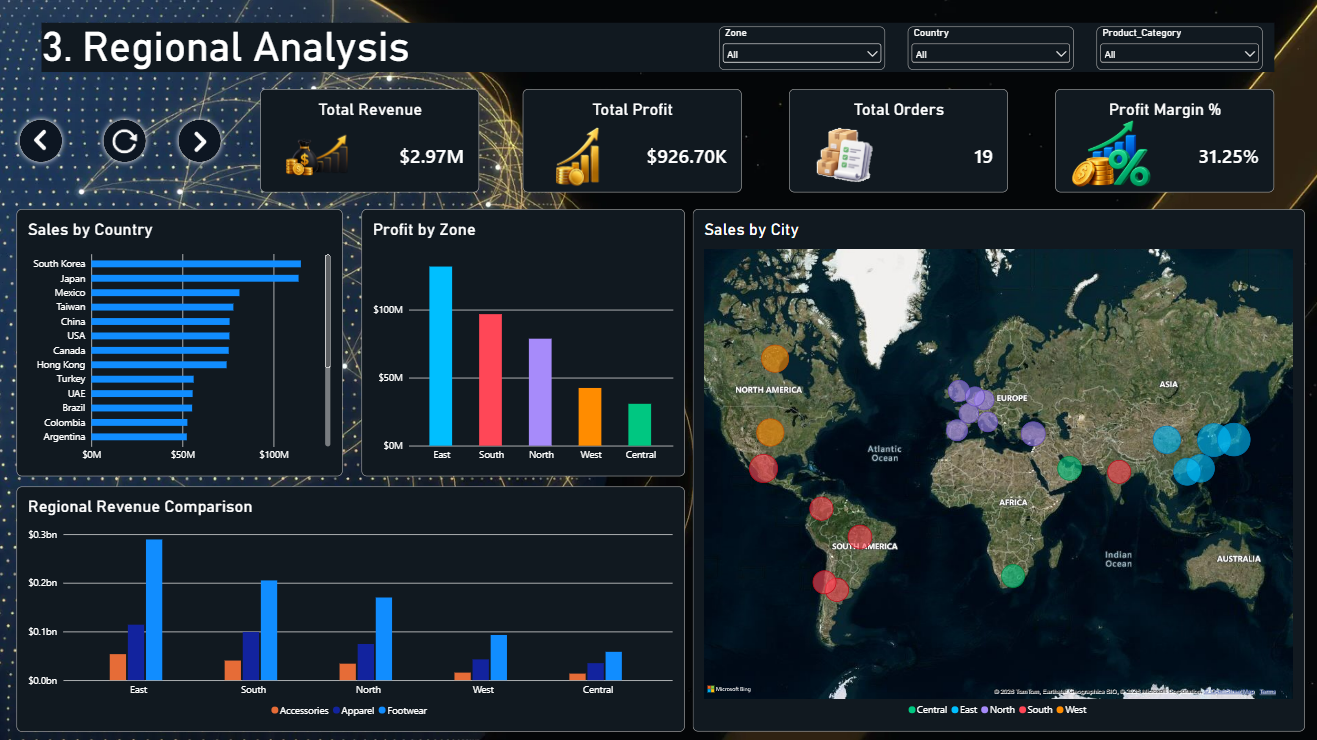

This screenshot's page, from the dashboard's own definition file:
{"tool":"powerbi","page":{"name":"Regional Analysis","canvas":[1920,1080],"ordinal":2},"visuals":[{"type":"shape","box":[61.5,34.4,1793.3,71.7],"z":0},{"type":"textbox","title":"3. Regional Analysis","box":[61.8,34.5,550.9,70.9],"z":1000},{"type":"kpi","title":"Total Revenue","fields":{"Indicator":["Sales and revenue measures.Total Sales Revenue"],"TrendLine":["Calendar.Date"]},"box":[380,130.3,318.5,150.2],"z":2000},{"type":"image","box":[380,170.1,160,110.9],"z":3000},{"type":"kpi","title":"Total Profit","fields":{"Indicator":["Sales and revenue measures.Total Profit"],"TrendLine":["Calendar.Date"]},"box":[761.9,130.3,318.5,150.2],"z":4000},{"type":"kpi","title":"Total Orders","fields":{"Indicator":["Sales and revenue measures.Total Orders"],"TrendLine":["Calendar.Date"]},"box":[1149.1,130.3,318.5,150.2],"z":5000},{"type":"kpi","title":"Profit Margin %","fields":{"Indicator":["Profitability measures.Profit Margin %"],"TrendLine":["Calendar.Date"]},"box":[1536.4,130.3,318.5,150.2],"z":6000},{"type":"clusteredBarChart","title":"Sales by Country","fields":{"Category":["Project.Country"],"Y":["Sales and revenue measures.Total Sales Revenue"]},"box":[25.3,305.8,474.1,389.1],"z":7000},{"type":"clusteredColumnChart","title":"Profit by Zone","fields":{"Category":["Project.Zone"],"Y":["Sales and revenue measures.Total Profit"]},"box":[526.6,305.8,470.5,389.1],"z":8000},{"type":"clusteredColumnChart","title":"Regional Revenue Comparison","fields":{"Category":["Project.Zone"],"Series":["Project.Product_Category"],"Y":["Sales and revenue measures.Total Sales Revenue"]},"box":[25.3,709.4,971.8,356.5],"z":9000},{"type":"map","title":"Sales by City","fields":{"Category":["Project.Country"],"Series":["Project.Zone"],"Size":["Sales and revenue measures.Total Sales Revenue"]},"box":[1009.8,305.8,890.4,760.1],"z":10000},{"type":"slicer","fields":{"Values":["Project.Zone"]},"box":[1047.8,39.8,241.7,63.3],"z":11000},{"type":"shape","box":[253.3,166.5,78.2,78.2],"z":11000,"group":"g3"},{"type":"slicer","fields":{"Values":["Project.Country"]},"box":[1321.1,39.8,241.7,63.3],"z":12000},{"type":"shape","box":[143,166.5,78.2,78.2],"z":12000,"group":"g2"},{"type":"slicer","fields":{"Values":["Project.Product_Category"]},"box":[1596.1,39.8,241.7,63.3],"z":13000},{"type":"shape","box":[21.7,166.5,78.2,78.2],"z":13000,"group":"g1"},{"type":"group","id":"g1","title":"Group 1","box":[14.5,159.3,92.7,92.7],"z":14000},{"type":"image","box":[155.7,177.4,52.7,58.2],"z":14000,"group":"g2"},{"type":"image","box":[246.1,159.3,92.7,92.7],"z":15000,"group":"g3"},{"type":"group","id":"g2","title":"Group 2","box":[143,166.5,78.2,78.2],"z":15000},{"type":"image","box":[14.5,159.3,92.7,92.7],"z":16000,"group":"g1"},{"type":"group","id":"g3","title":"Group 3","box":[246.1,159.3,92.7,92.7],"z":16000},{"type":"image","box":[1150,170,159.3,110.4],"z":17000},{"type":"image","box":[762,170,159.3,110.4],"z":18000},{"type":"image","box":[1536,172,159.3,110.4],"z":19000}]}

Visuals, with their boxes in screenshot pixels (x1, y1, x2, y2), scaled from the page's 1920x1080 canvas onto the 1317x740 screenshot:
shape: left=42, top=24, right=1272, bottom=73
"3. Regional Analysis" textbox: left=42, top=24, right=420, bottom=72
"Total Revenue" kpi: left=261, top=89, right=479, bottom=192
image: left=261, top=117, right=370, bottom=193
"Total Profit" kpi: left=523, top=89, right=741, bottom=192
"Total Orders" kpi: left=788, top=89, right=1007, bottom=192
"Profit Margin %" kpi: left=1054, top=89, right=1272, bottom=192
"Sales by Country" clusteredBarChart: left=17, top=210, right=343, bottom=476
"Profit by Zone" clusteredColumnChart: left=361, top=210, right=684, bottom=476
"Regional Revenue Comparison" clusteredColumnChart: left=17, top=486, right=684, bottom=730
"Sales by City" map: left=693, top=210, right=1303, bottom=730
slicer - Project.Zone: left=719, top=27, right=885, bottom=71
shape: left=174, top=114, right=227, bottom=168
slicer - Project.Country: left=906, top=27, right=1072, bottom=71
shape: left=98, top=114, right=152, bottom=168
slicer - Project.Product_Category: left=1095, top=27, right=1261, bottom=71
shape: left=15, top=114, right=69, bottom=168
"Group 1" group: left=10, top=109, right=74, bottom=173
image: left=107, top=122, right=143, bottom=161
image: left=169, top=109, right=232, bottom=173
"Group 2" group: left=98, top=114, right=152, bottom=168
image: left=10, top=109, right=74, bottom=173
"Group 3" group: left=169, top=109, right=232, bottom=173
image: left=789, top=116, right=898, bottom=192
image: left=523, top=116, right=632, bottom=192
image: left=1054, top=118, right=1163, bottom=193
